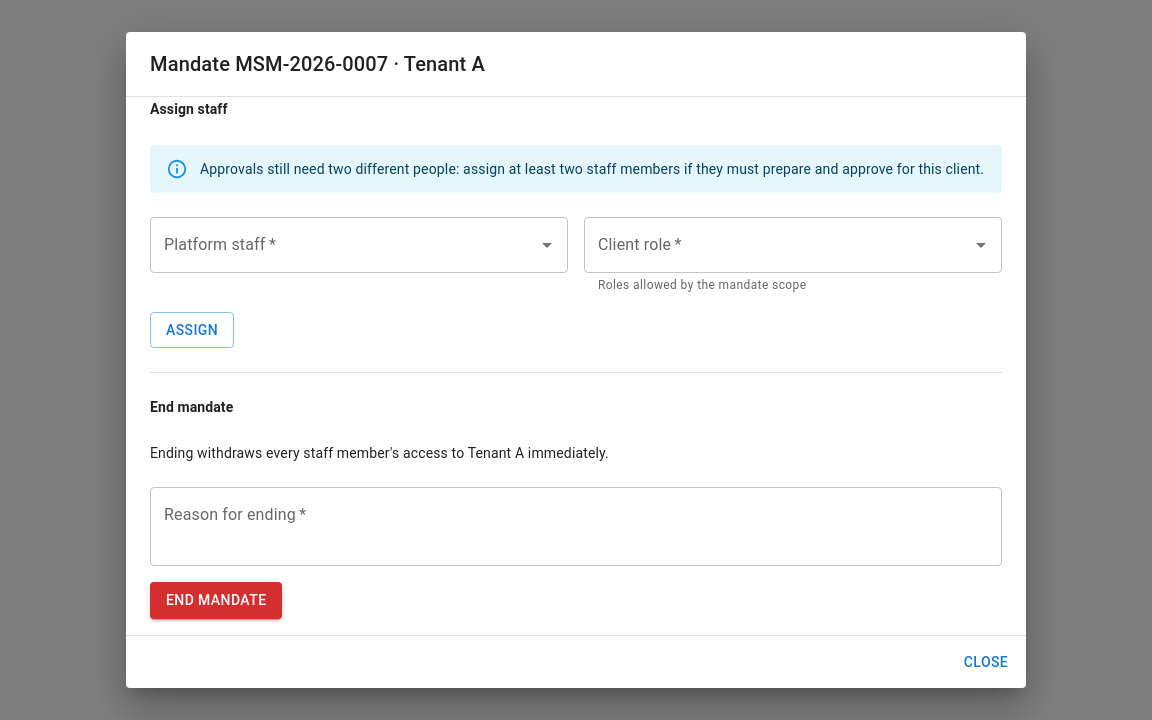
Test: MandateDetailDialog › shows the server message when ending fails (e.g. a stale version)
(page scrolled)
Type "Done" into the text box labelled "Reason for ending *" at (576, 527), box [164,504,988,550]
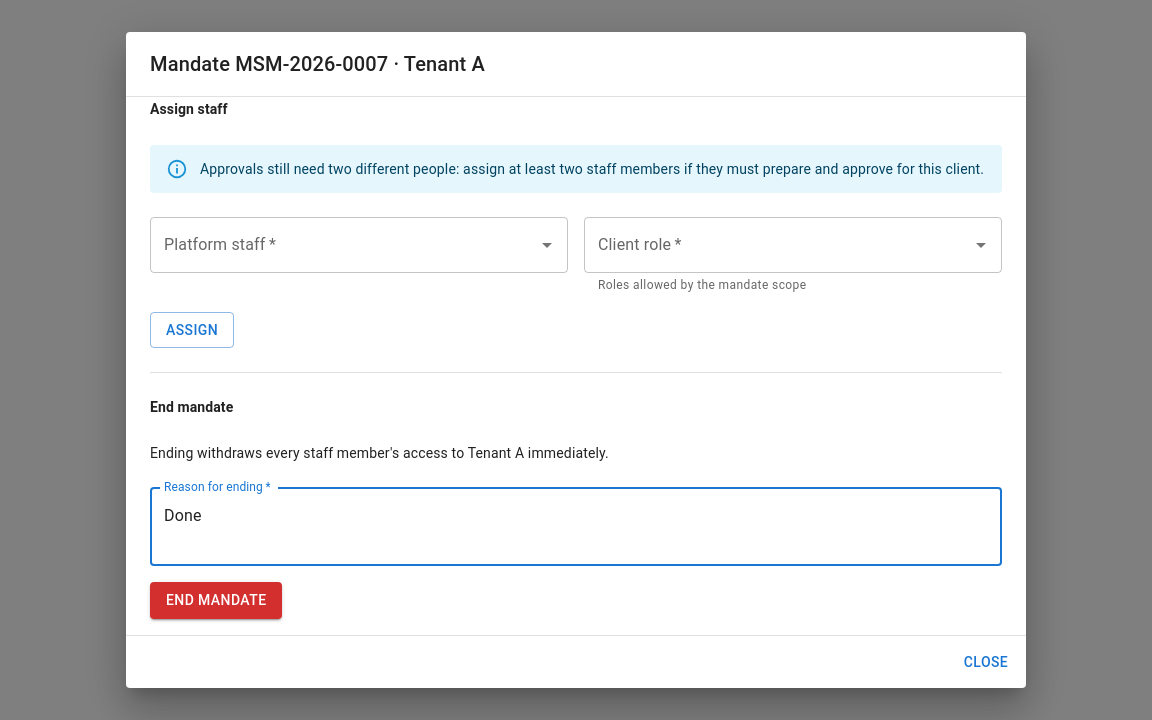
Click the button "End mandate" at (216, 600), box [150,582,282,619]
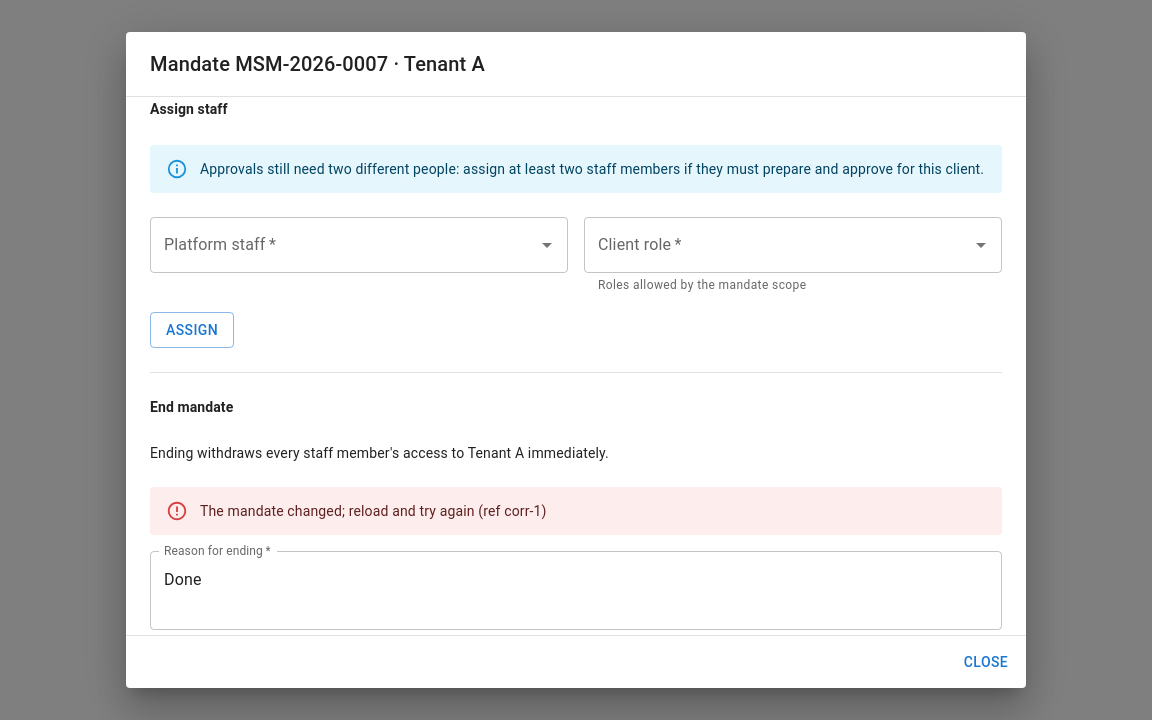
Check: the text "The mandate changed; reload and try again (ref corr-1)" is shown, box [200,503,547,519]
